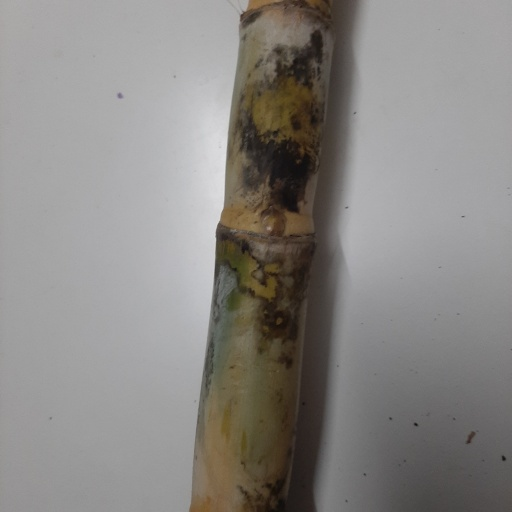Bud: (262, 211, 284, 235)
